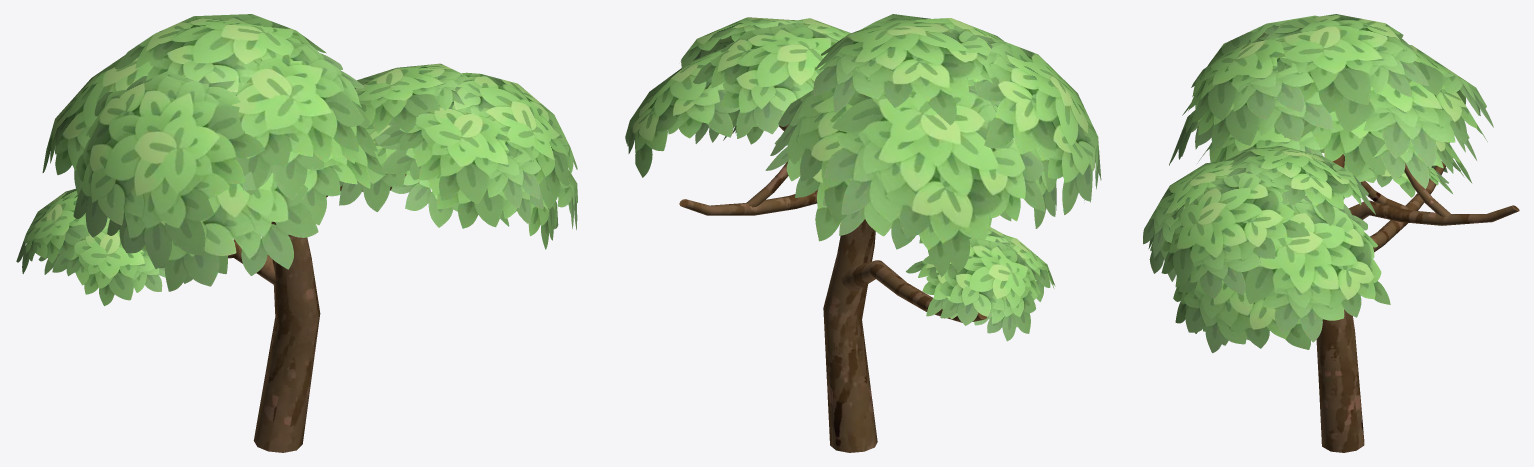
Rendered from tree_9.glb.
The picture shows the model from 3 angles, left to right: view 1: azimuth 30°, elevation 25°; view 2: azimuth 150°, elevation 25°; view 3: azimuth 270°, elevation 25°; orthographic projection. The views are drawn at different scales.
Parts seen in each view (by area): view 1: Tree_9; view 2: Tree_9; view 3: Tree_9.
Boxes of the visible parts, box(x1,y1,x2,y2) form: Tree_9: box(16, 14, 577, 452); Tree_9: box(625, 14, 1101, 452); Tree_9: box(1143, 14, 1519, 452).
Size of the model in its own units: 6.36 by 5.49 by 4.94.
2 materials, 2 textured.
